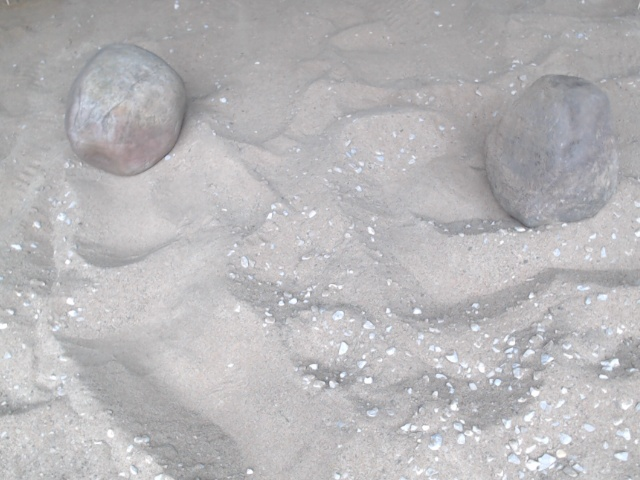rock: (478, 69, 624, 235), (61, 39, 191, 182)
